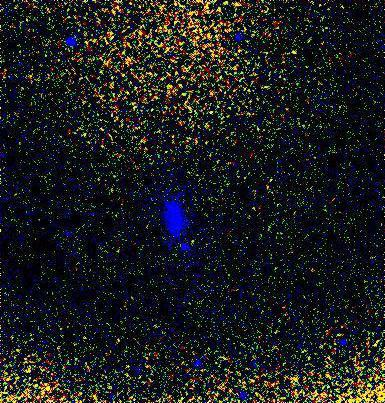star: (280, 46, 310, 76)
